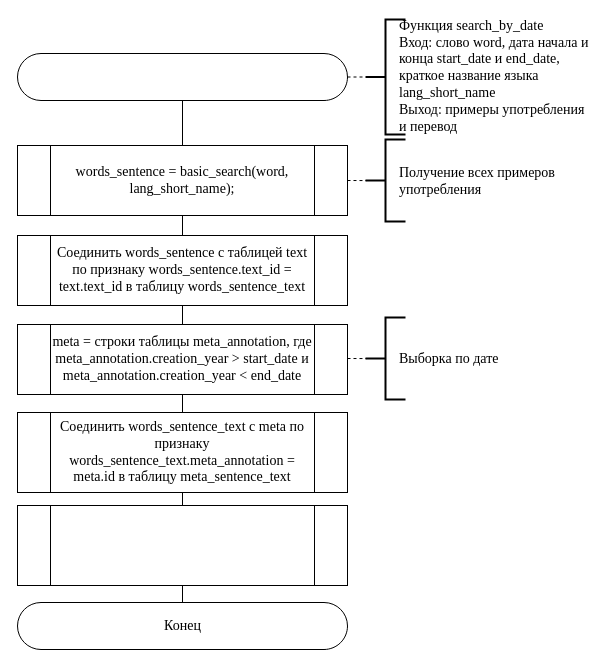
Image size: 615x667. Some labels were removed from this diagram. The box of each missing label's shape, as (x1, y1, x2, y2) in pixels:
Вернуть meta_sentence_text: (16, 504, 348, 586)
Начало: (16, 52, 348, 100)
